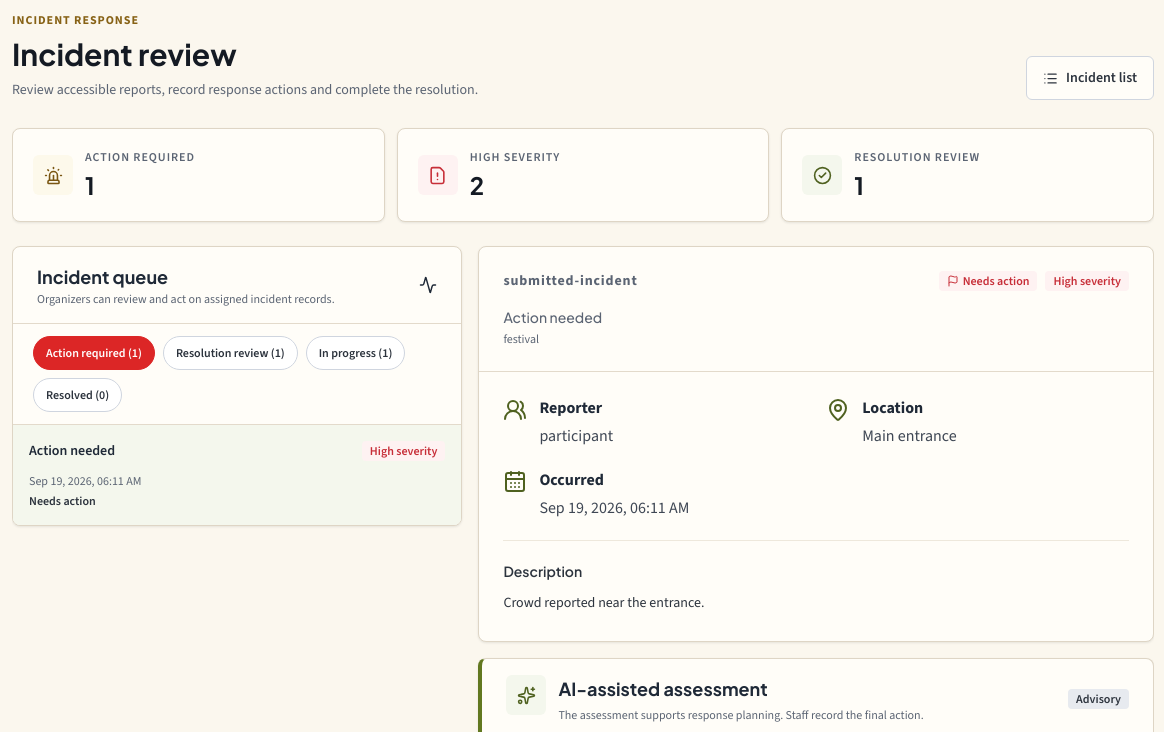
live incident workspace resilience › gives organizers focused indicators and separates active work from closed records
Expected: the text "Action Required" is shown, top-left (85, 149), bottom-right (195, 165)
Expected: the text "High Severity" is shown, top-left (470, 149), bottom-right (560, 165)
Click the tab "Resolution review (1)". click: click(230, 353)
box: top-left (163, 336), bottom-right (298, 370)
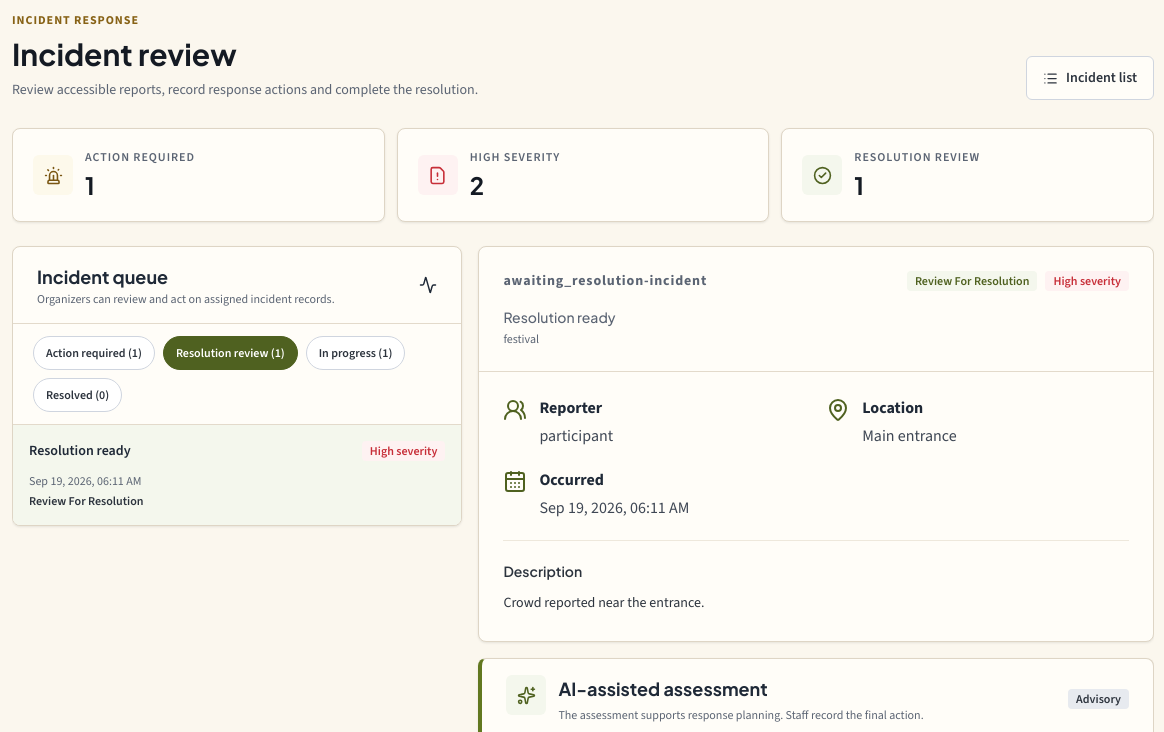
Expected: the button "Resolution ready" does not show "Review for resolution"
Result: the button "Resolution ready" is shown at top-left (13, 425), bottom-right (461, 525)
Result: the button "Action needed" is gone
Click the tab "In progress (1)". click: click(356, 353)
box: top-left (306, 336), bottom-right (405, 370)
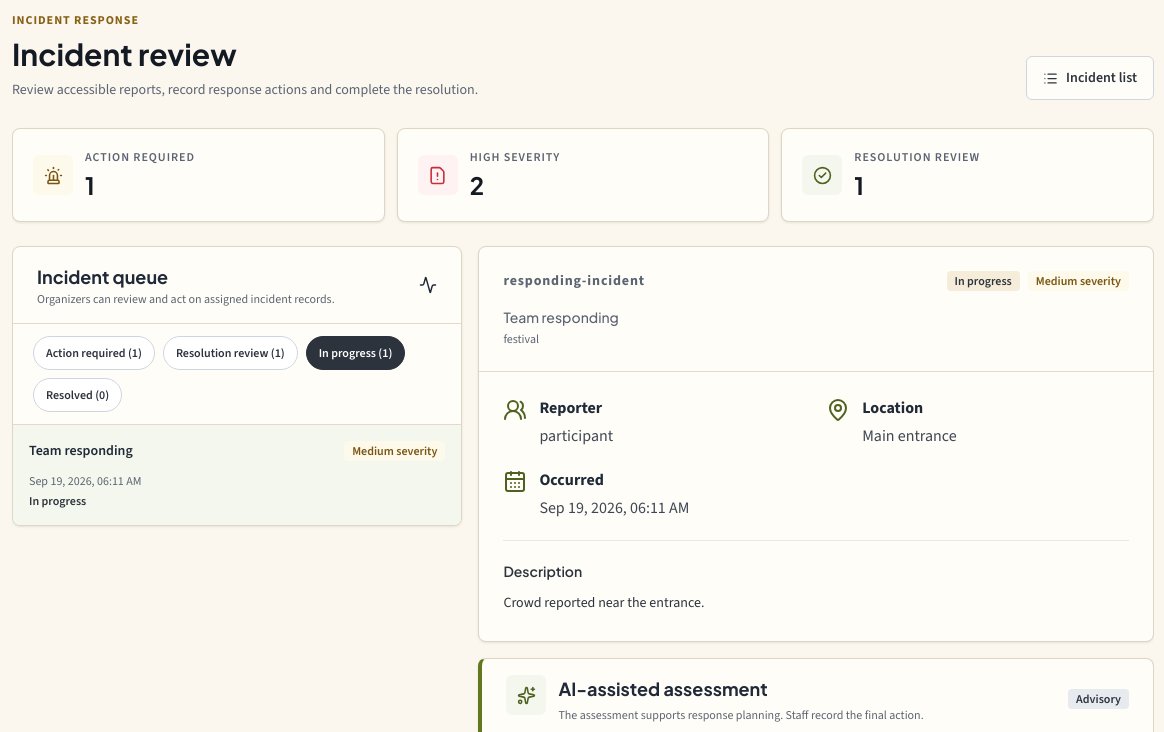
Result: the button "Team responding" is shown at top-left (13, 425), bottom-right (461, 525)
Result: the button "Team responding" shows "In progress" at top-left (13, 425), bottom-right (461, 525)
